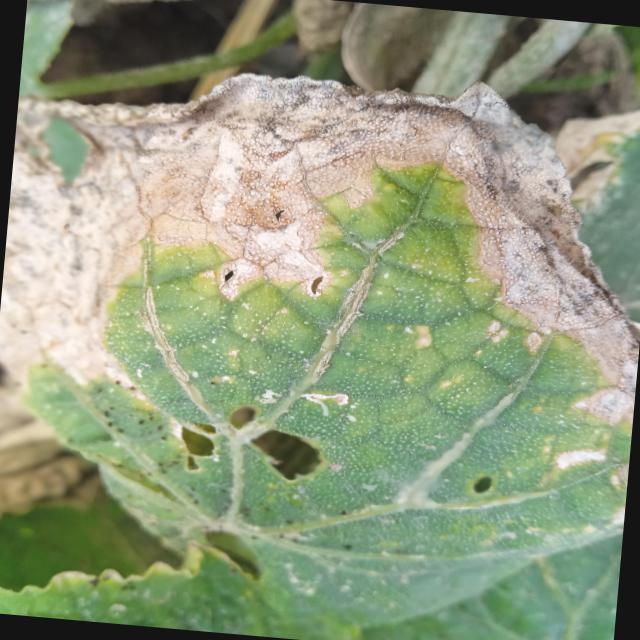cucumber_gummy: (0, 34, 640, 640)
